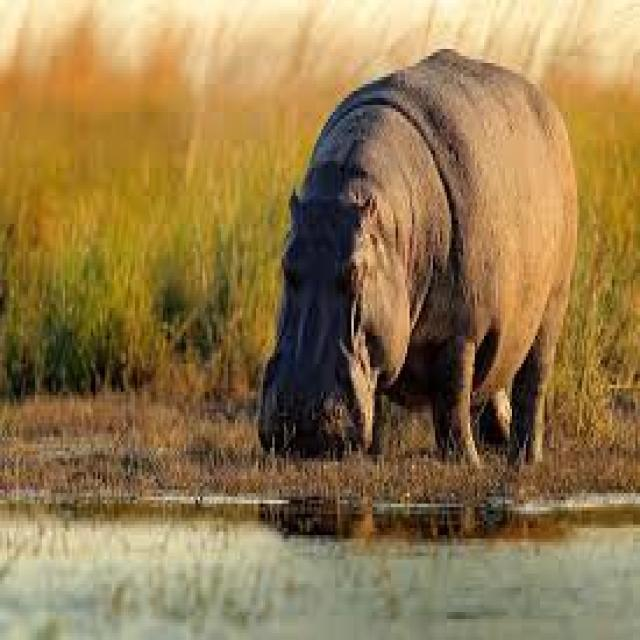Hippopotamus: (252, 57, 576, 476)
